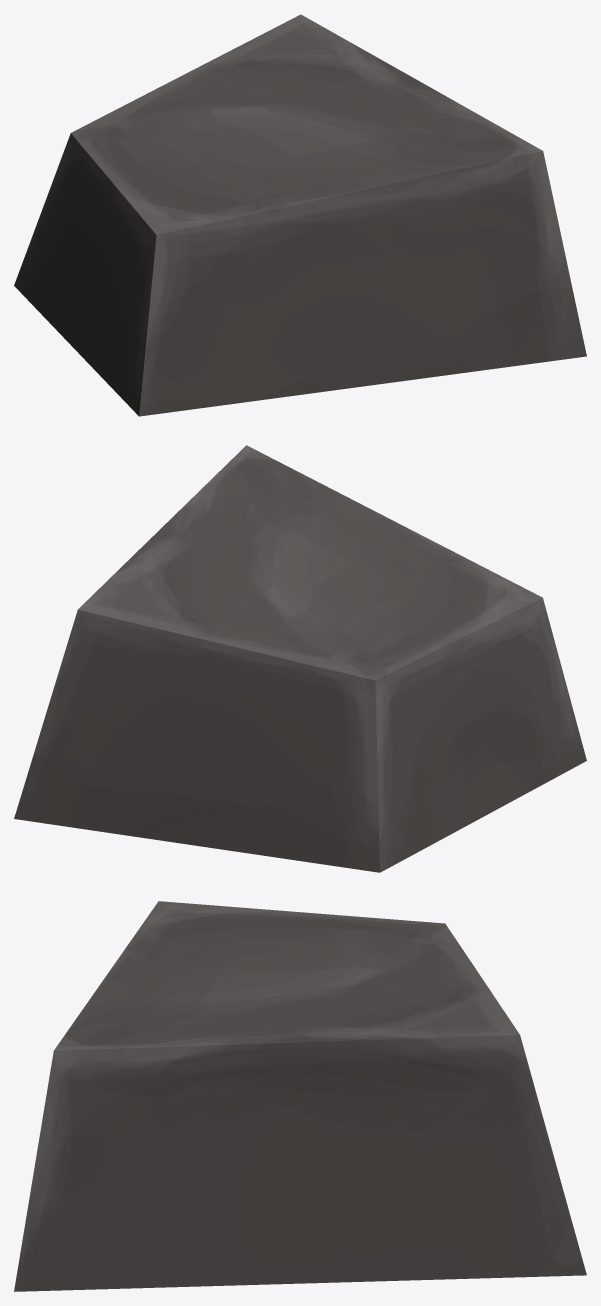
Rendered from Rock_2.FBX.
The picture shows the model from 3 angles, top to bottom: view 1: azimuth 30°, elevation 25°; view 2: azimuth 150°, elevation 25°; view 3: azimuth 270°, elevation 25°; orthographic projection. The views are drawn at different scales.
Parts seen in each view (by area): view 1: Rock_2; view 2: Rock_2; view 3: Rock_2.
Boxes of the visible parts, x1,y1,x2,y2 form: Rock_2: [14, 14, 586, 416]; Rock_2: [14, 445, 586, 872]; Rock_2: [14, 901, 586, 1291].
Size of the model in its own units: 0.6125 by 0.2931 by 0.6721.
